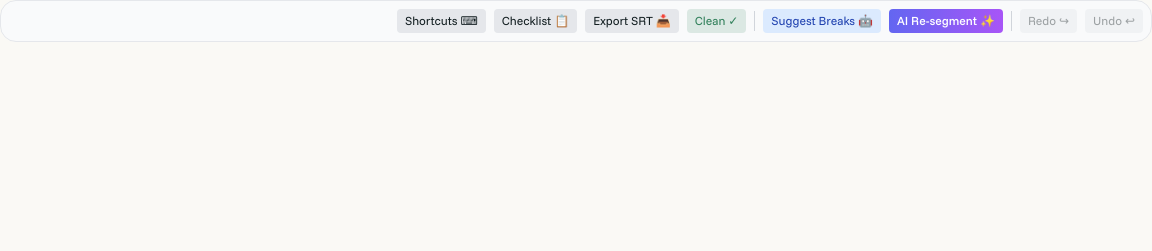
Test: the shortcut list › explains the keys that have no button
Click the button "⌨ Shortcuts": click(441, 21) [397,9,486,33]
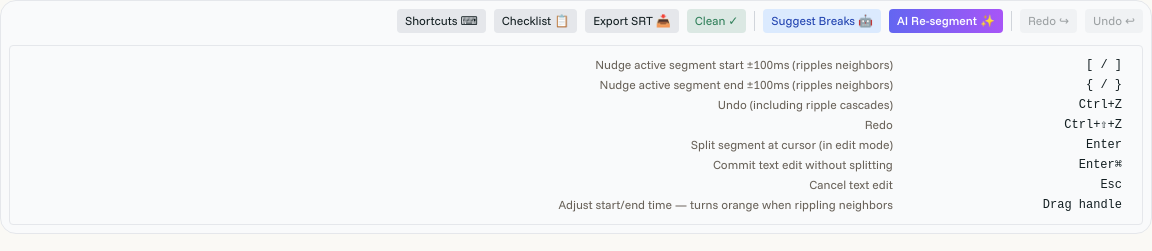
expect the text "Nudge active segment start ±100ms (ripples neighbors)" is shown: met, box [18,56,894,74]
expect the text "[ / ]" is shown: met, box [894,56,1134,74]
